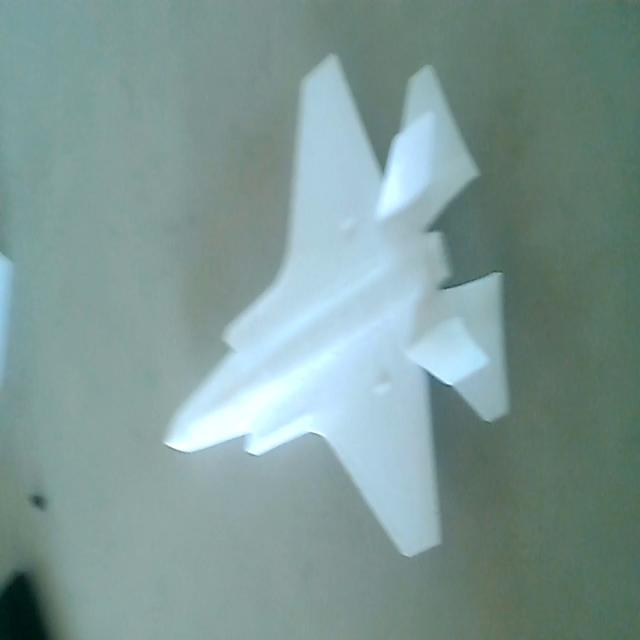Jet: (158, 46, 511, 568)
